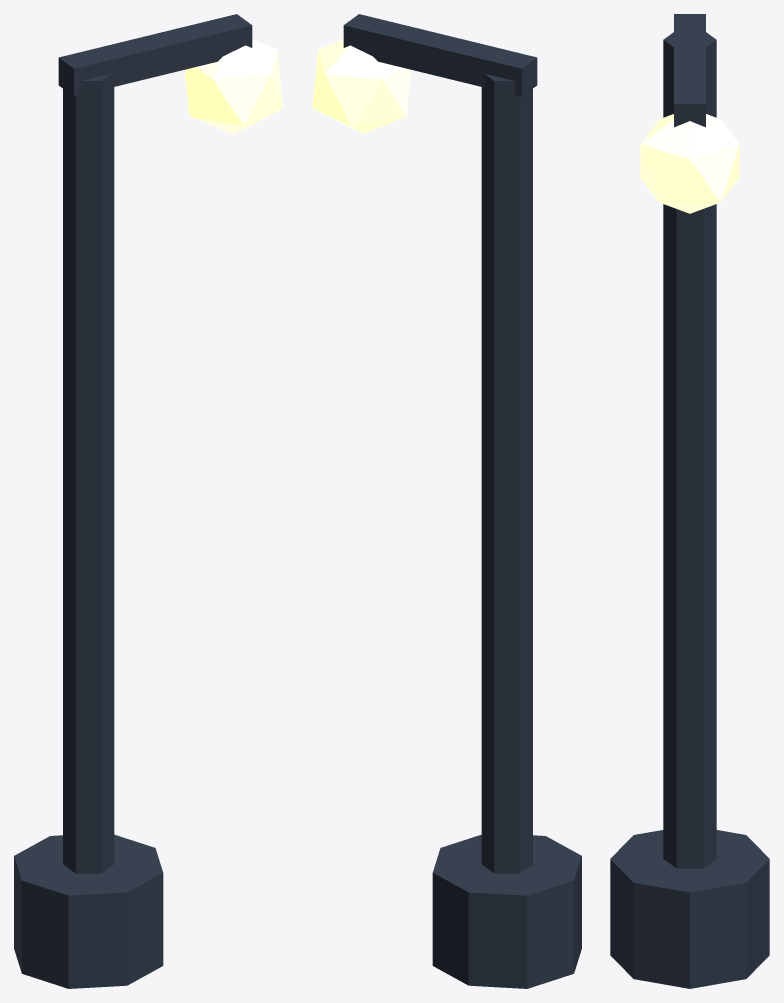
The model's file is dc-lamp-6Y4sWjfh.glb.
3 renders of one model, left to right at view 1: azimuth 30°, elevation 25°; view 2: azimuth 150°, elevation 25°; view 3: azimuth 270°, elevation 25°, orthographic. The views are drawn at different scales.
Visible parts, largest first — view 1: Cylinder; view 2: Cylinder; view 3: Cylinder.
Part boxes in pixels (x1,y1,x2,y2): Cylinder: (14, 14, 283, 988); Cylinder: (312, 14, 581, 988); Cylinder: (610, 14, 769, 988).
Bounding box in the file's own units: 0.1147 × 0.386 × 0.06.
